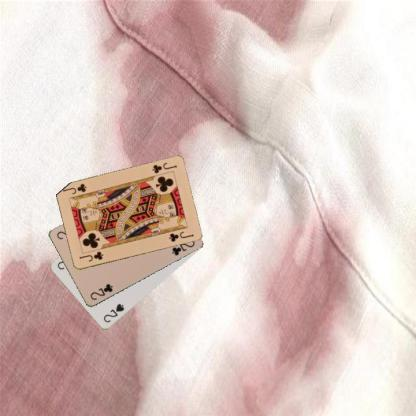2c: (88, 282, 114, 302)
2s: (100, 301, 126, 324)
Jc: (149, 160, 178, 175), (76, 249, 105, 263)
